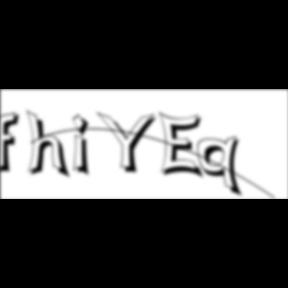E: (158, 110, 207, 182)
Y: (96, 110, 164, 176)
f: (1, 111, 25, 175)
h: (26, 108, 74, 182)
i: (73, 112, 97, 180)
q: (198, 135, 246, 200)
